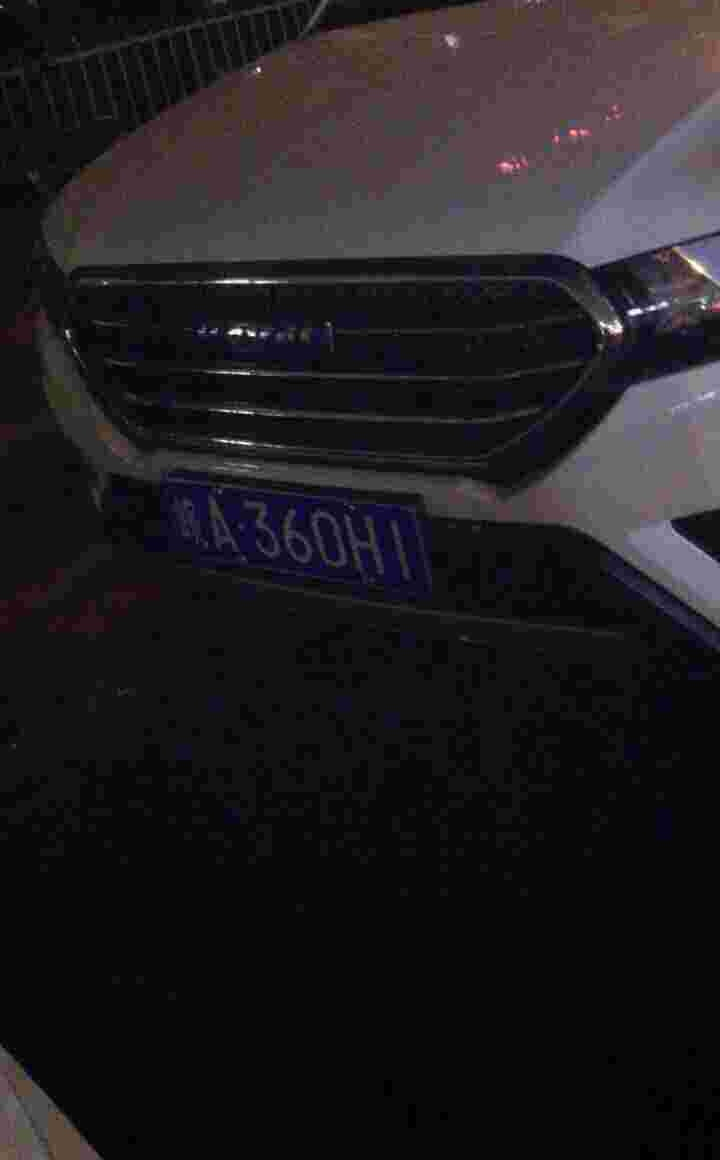license_plate: (157, 478, 428, 590)
